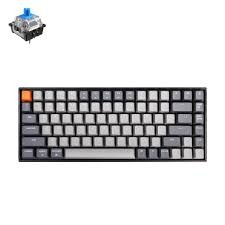keyboard: (18, 84, 209, 163)
